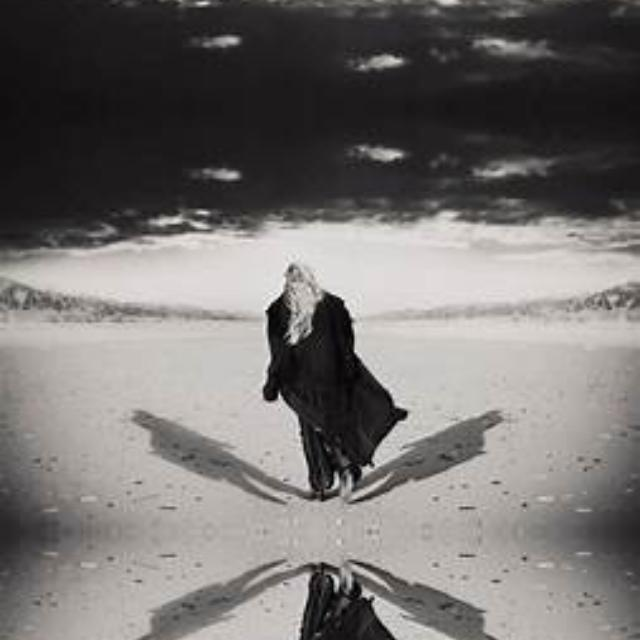person: (258, 252, 408, 510), (258, 554, 407, 640)
